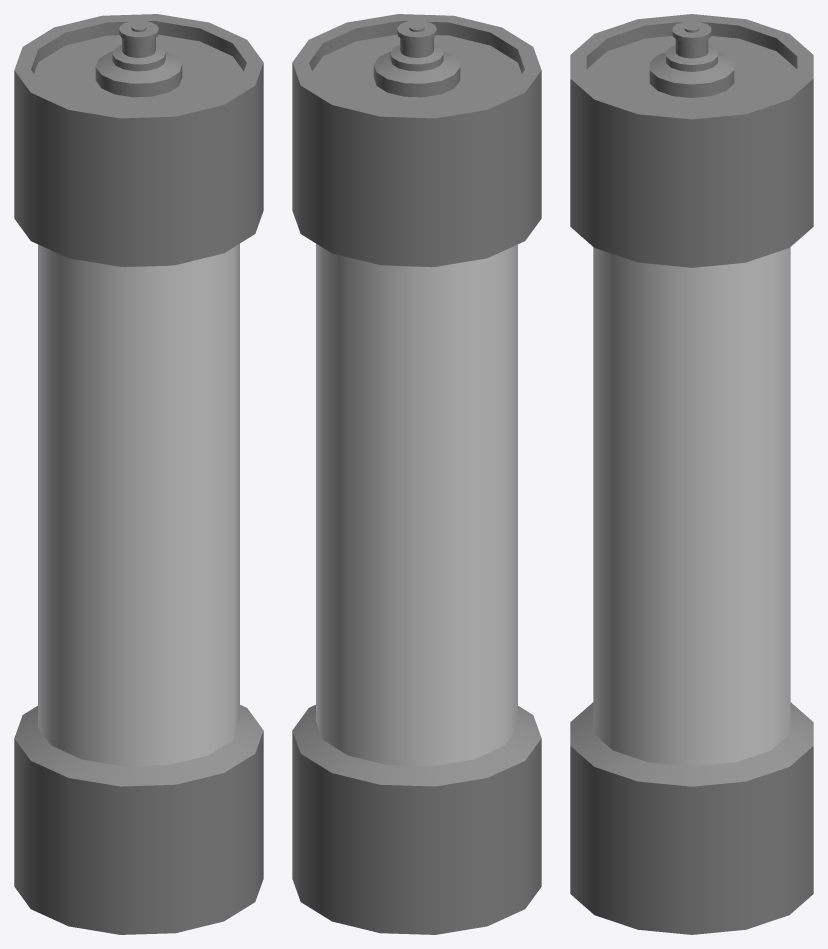
Rendered from fuse.fbx.
The picture shows the model from 3 angles, left to right: view 1: azimuth 30°, elevation 25°; view 2: azimuth 150°, elevation 25°; view 3: azimuth 270°, elevation 25°; orthographic projection.
Parts seen in each view (by area): view 1: polySurface3; view 2: polySurface3; view 3: polySurface3.
Boxes of the visible parts, x1=… form: polySurface3: x1=14, y1=14, x2=263, y2=934; polySurface3: x1=292, y1=14, x2=541, y2=934; polySurface3: x1=570, y1=14, x2=813, y2=934.
Size of the model in its own units: 2.01 by 7.94 by 1.96.
Materials: 1 (1 with a texture image).
